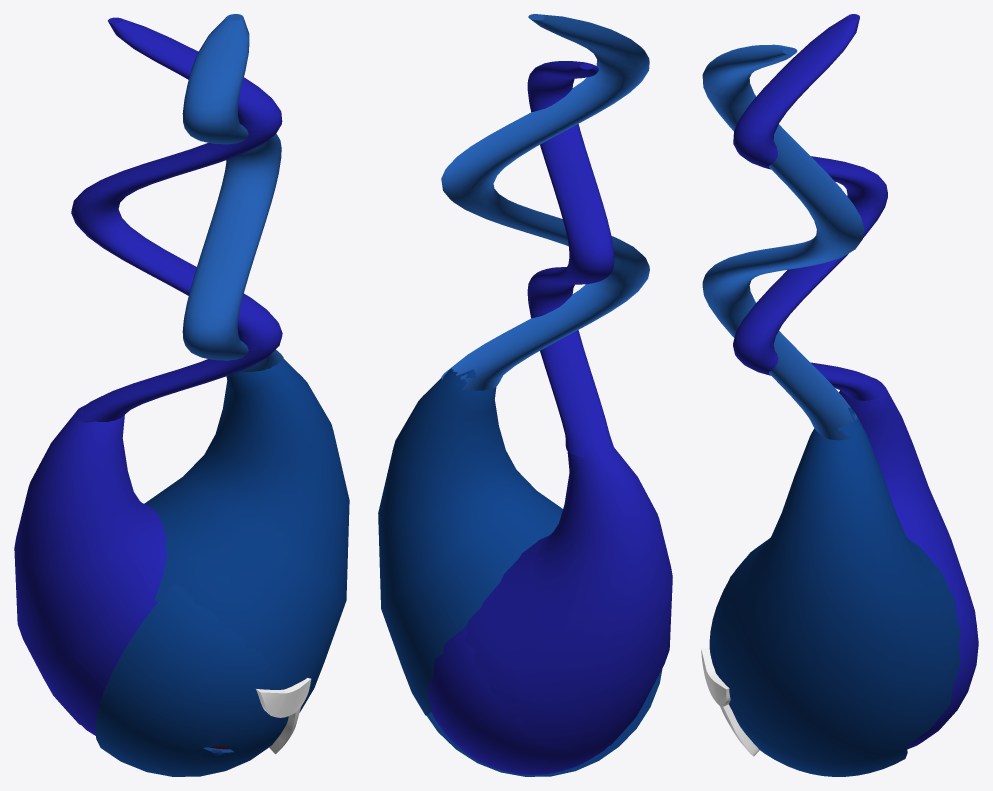
The model's file is firstTry (1).FBX.
3 views of the same model, side by side, from view 1: azimuth 30°, elevation 25°; view 2: azimuth 150°, elevation 25°; view 3: azimuth 270°, elevation 25° (orthographic). The views are drawn at different scales.
Parts seen in each view (by area): view 1: Cone003, Cone001, Sphere003, Cylinder002, Cylinder003, Line001; view 2: Cone001, Cone003, Cylinder003, Cylinder002, Sphere001, Sphere003; view 3: Cone003, Cylinder003, Cylinder002, Cone001, Sphere003, Sphere001, Line001.
Boxes of the visible parts, box(x1,y1,x2,y2) form: Cone003: box(144, 358, 349, 712); Cone001: box(14, 404, 166, 731); Sphere003: box(95, 584, 292, 776); Cylinder002: box(71, 17, 282, 422); Cylinder003: box(182, 14, 283, 371); Line001: box(256, 678, 311, 754); Cone001: box(465, 438, 672, 753); Cone003: box(378, 368, 562, 715); Cylinder003: box(441, 14, 649, 390); Cylinder002: box(527, 61, 615, 458); Sphere001: box(427, 626, 607, 774); Sphere003: box(426, 669, 662, 776); Cone003: box(710, 407, 960, 764); Cylinder003: box(702, 44, 863, 440); Cylinder002: box(733, 14, 887, 400); Cone001: box(839, 377, 976, 623); Sphere003: box(709, 559, 907, 776); Sphere001: box(907, 593, 978, 749); Line001: box(701, 648, 759, 756).
Size of the model in its own units: 72.33 by 174 by 60.35.
